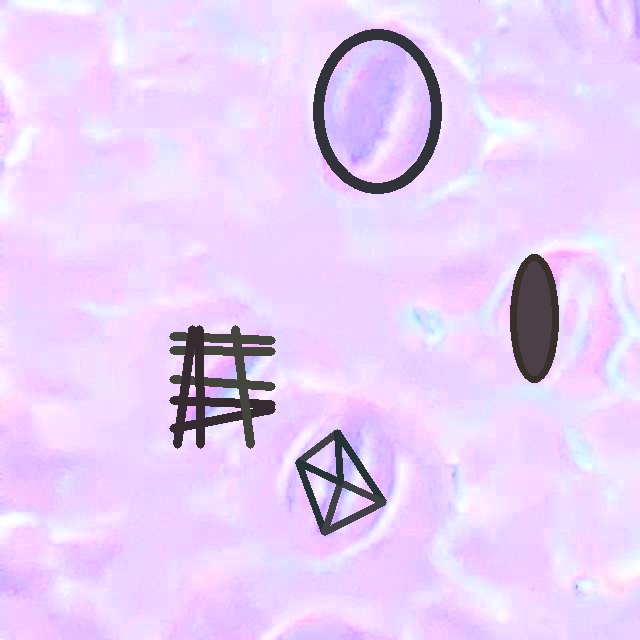open: (313, 29, 440, 194), (169, 325, 275, 448), (295, 429, 386, 535), (509, 254, 559, 381)
